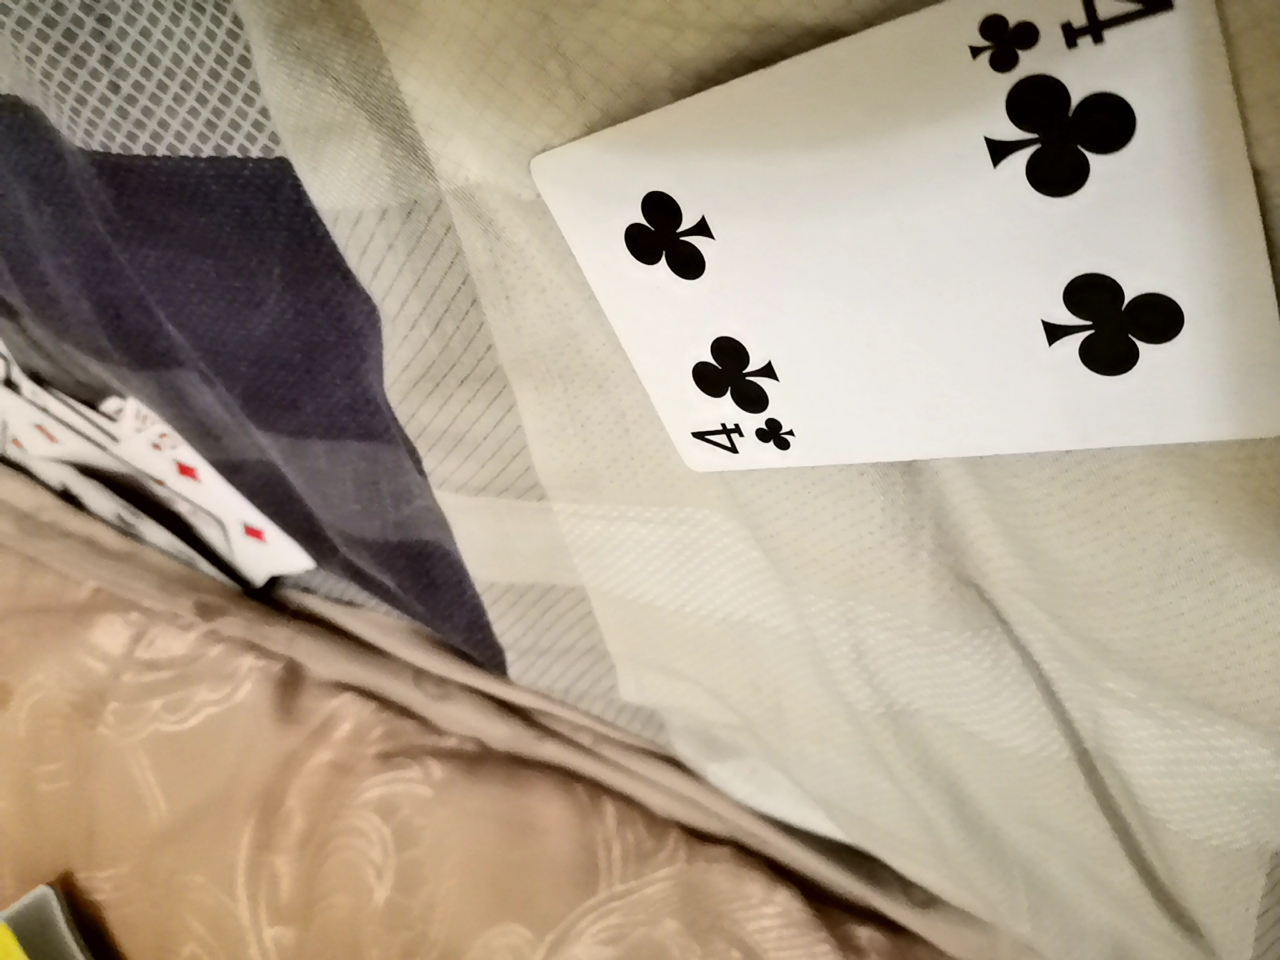mh 4: (551, 5, 1253, 472)
